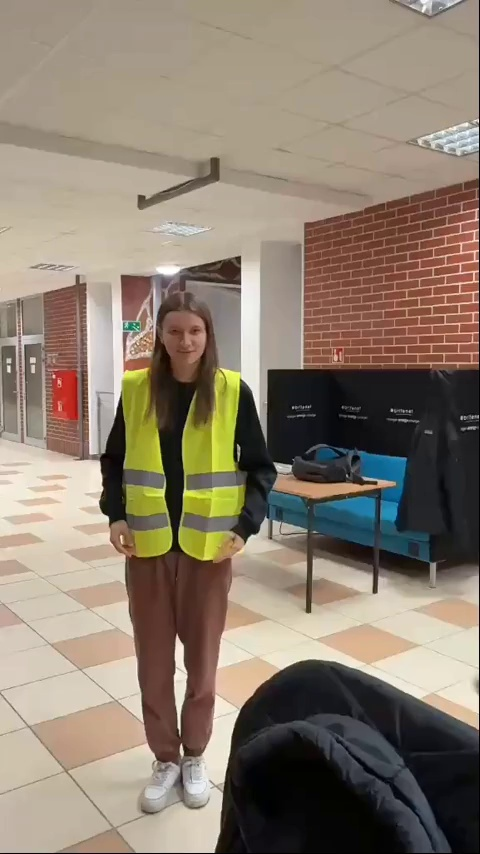vest: (104, 288, 279, 813)
